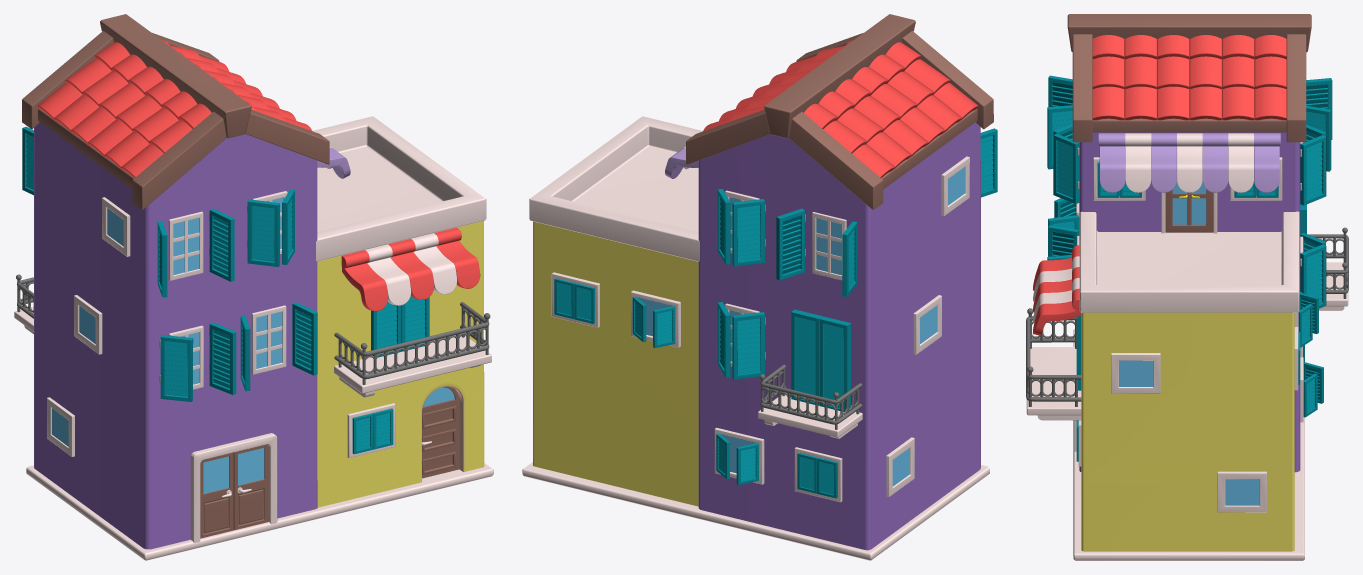
File: City_16_House_1.glb
3 views of the same model, side by side, from view 1: azimuth 30°, elevation 25°; view 2: azimuth 150°, elevation 25°; view 3: azimuth 270°, elevation 25° (orthographic). The views are drawn at different scales.
Parts seen in each view (by area): view 1: City_16_House_1; view 2: City_16_House_1; view 3: City_16_House_1.
Boxes of the visible parts, x1,y1,x2,y2 form: City_16_House_1: (14, 14, 493, 560); City_16_House_1: (522, 14, 997, 560); City_16_House_1: (1026, 14, 1348, 560).
Bounding box in the file's own units: 9.86 × 11.57 × 8.06.
1 material, 1 textured.
